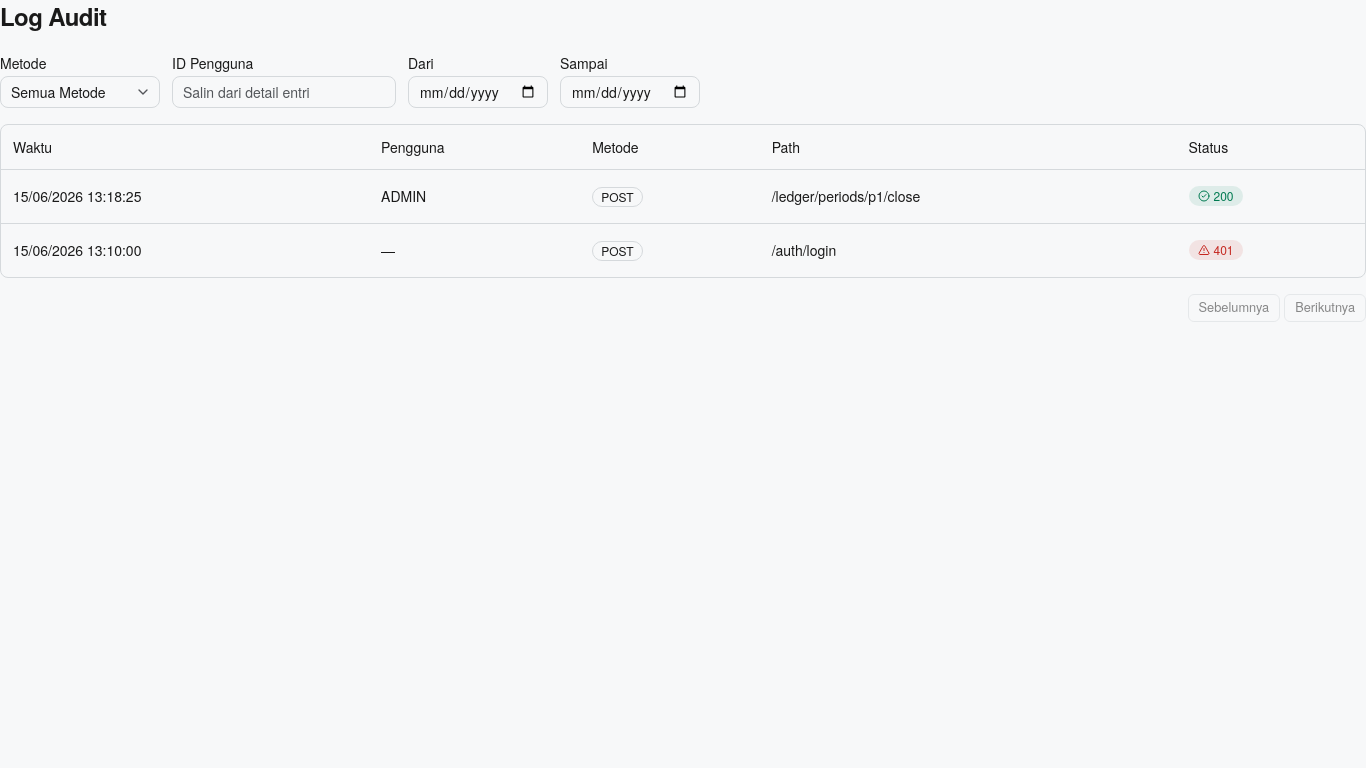
it: ADMIN: lists entries + status badges; a row opens the detail Sheet with the body JSON; prev disabled at offset 0
Expected: the text "/ledger/periods/p1/close" is shown, [760,169,1177,223]
Expected: the icon "401" is shown, [1188,240,1242,260]
What coordinates should you click on to do the following:
click the text "/auth/login"
I would click on:
 (804, 250)
Its box is [760,223,1177,276].
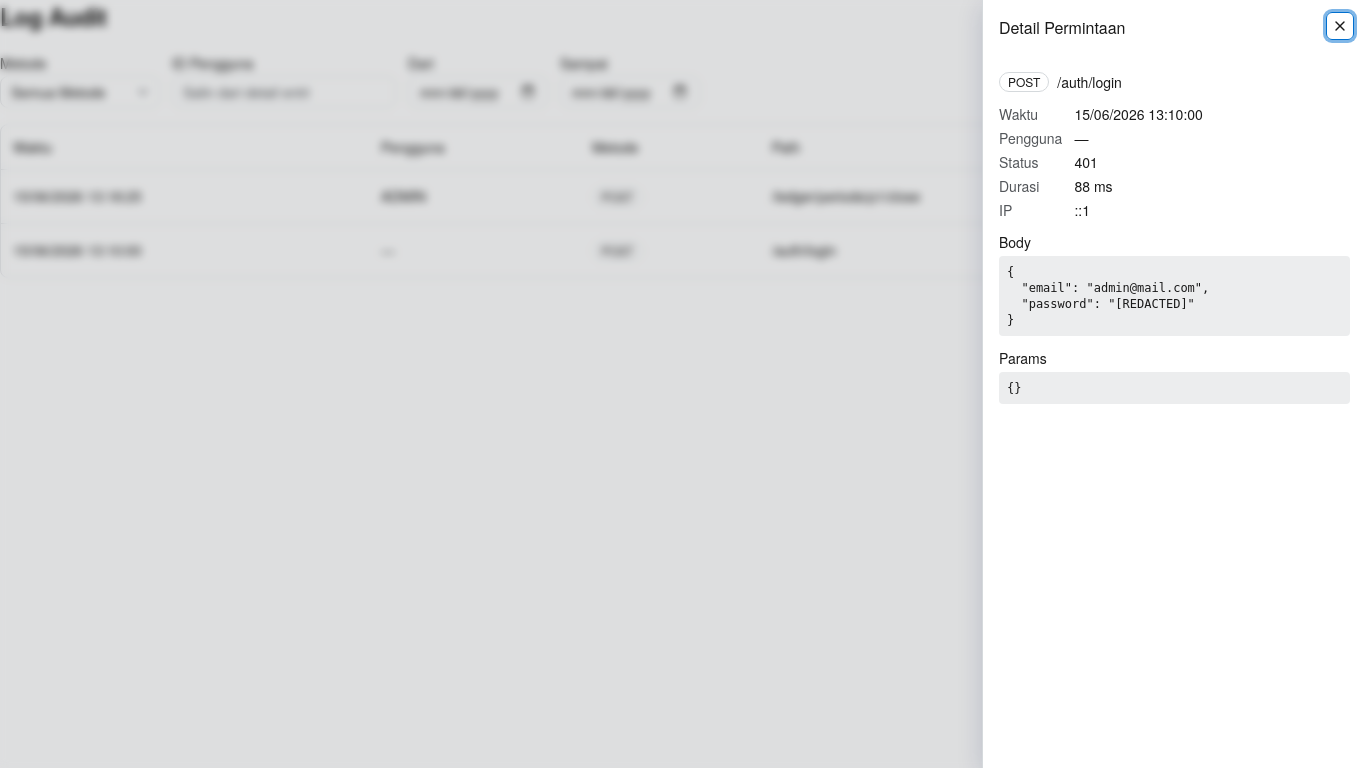
Expected: the text "{ \"email\": \"admin@mail.com\", \"password\": \"[REDACTED]\" }" is shown, [999,256,1350,336]
